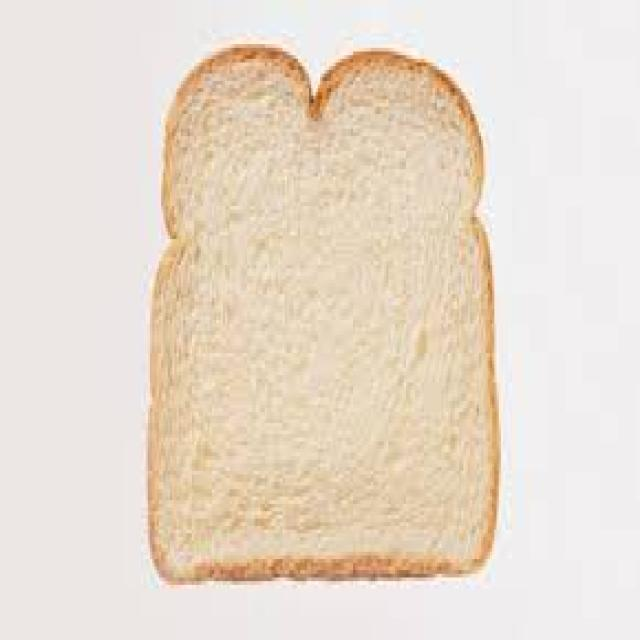Bread: (149, 46, 499, 580)
